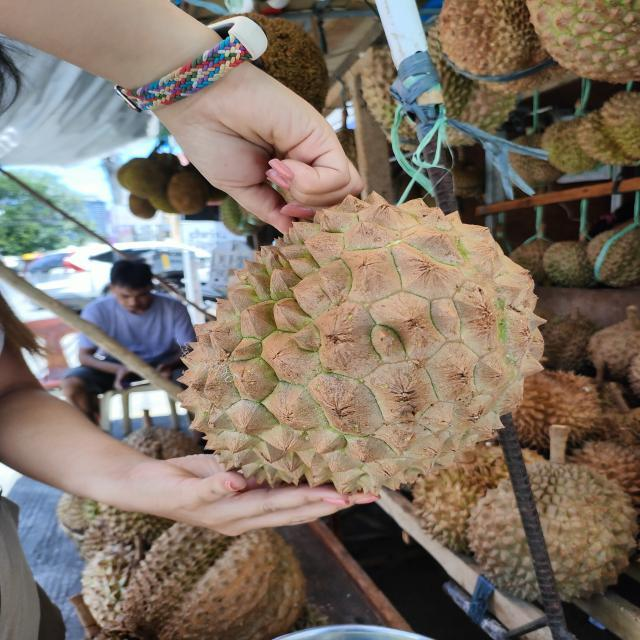mature: (177, 190, 546, 493)
